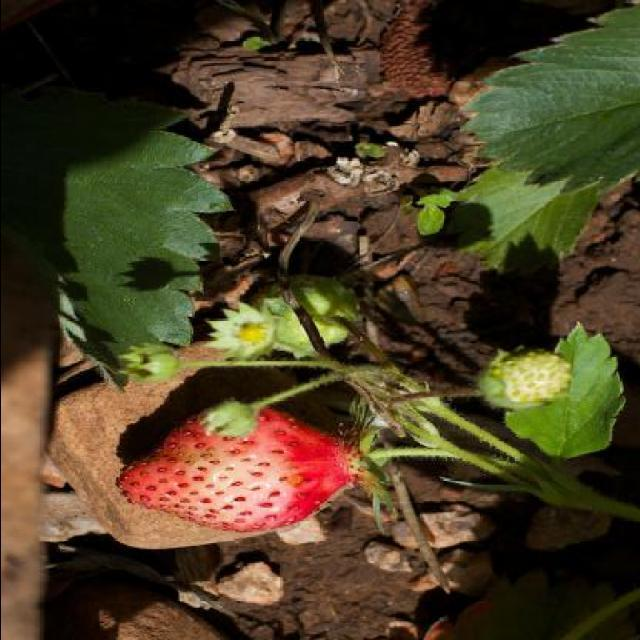Strawberry: (114, 418, 382, 534), (251, 273, 363, 367), (471, 350, 571, 407)
